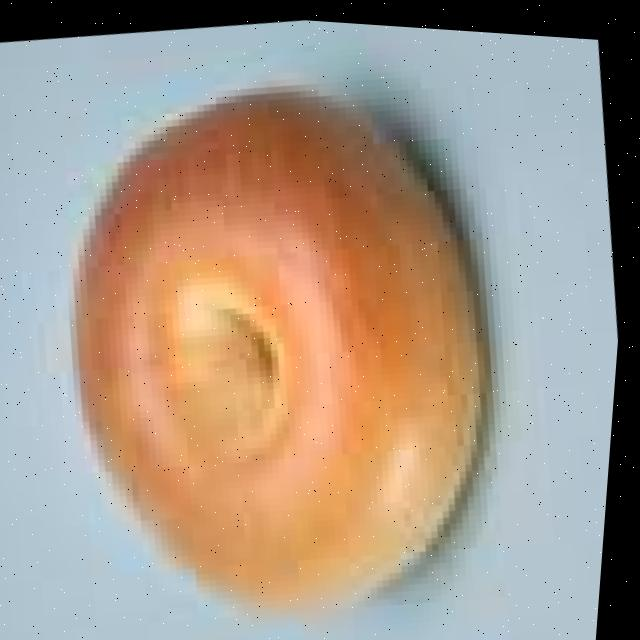Bagel: (82, 89, 488, 603)
